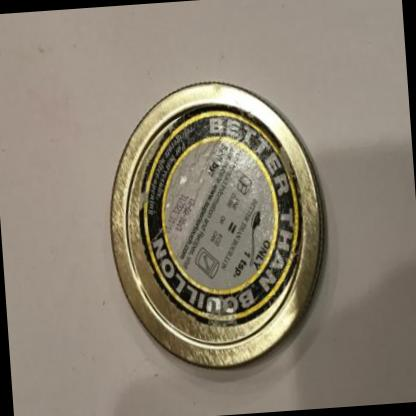Metal: (110, 82, 326, 368)
